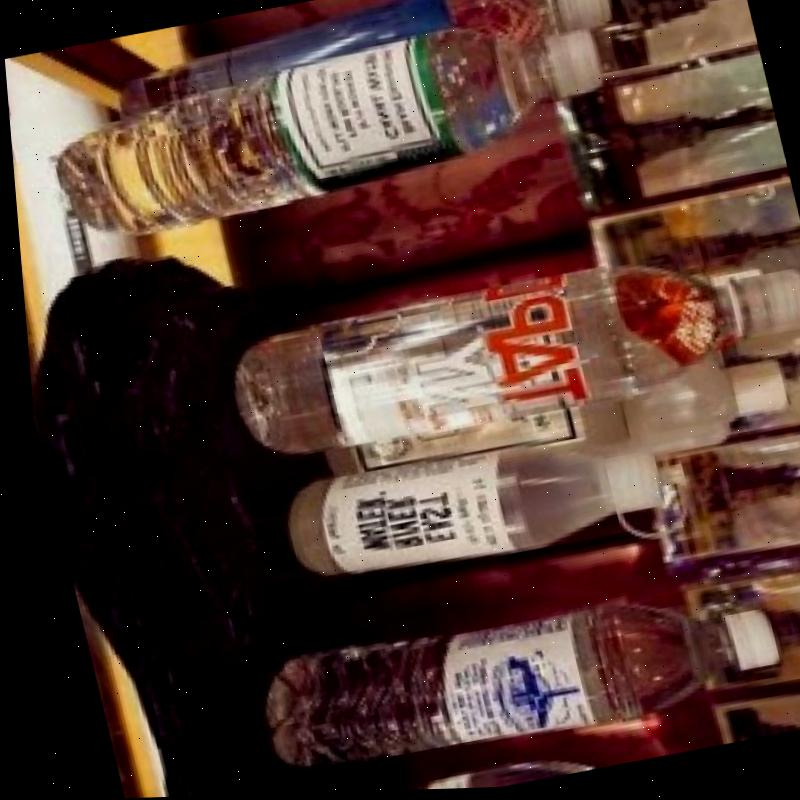botella: (27, 4, 624, 248), (207, 233, 800, 475), (235, 570, 785, 793), (96, 0, 619, 119)
